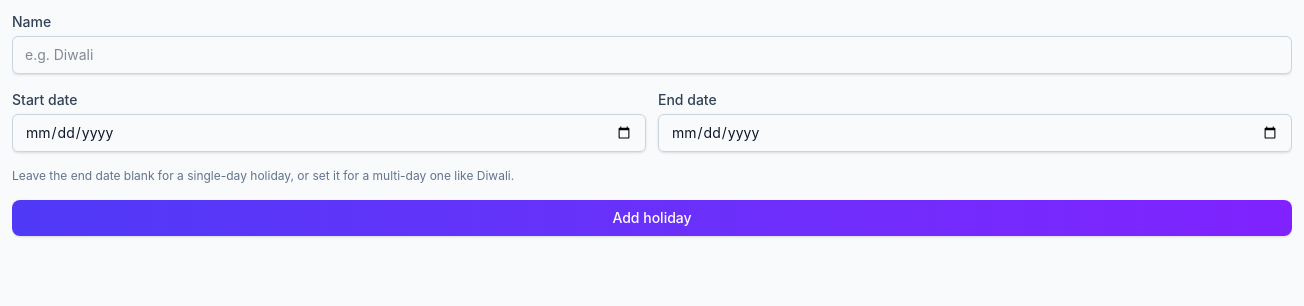
Test: HolidayForm › explains a backwards range if native validation is bypassed
This screenshot has width=1304, height=306.
Type "Backwards" into the field labelled "Name" at [652, 55], box [12,36,1292,74]
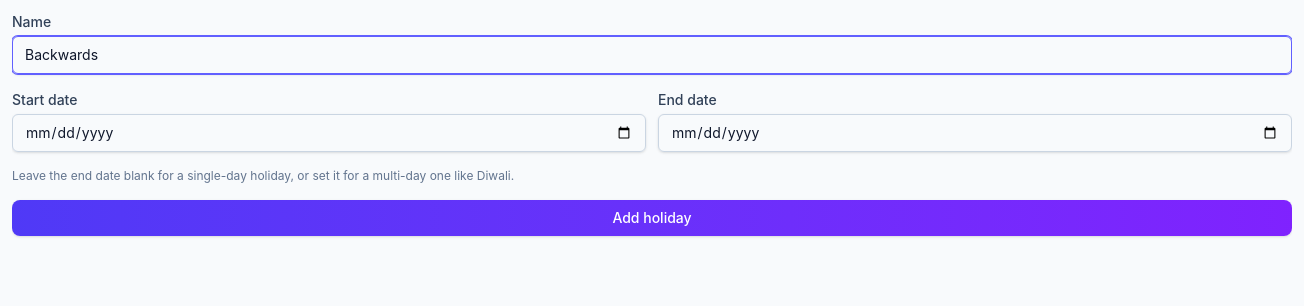
Type "2027-10-20" into the date field labelled "Start date" at [329, 133], box [12,114,646,152]
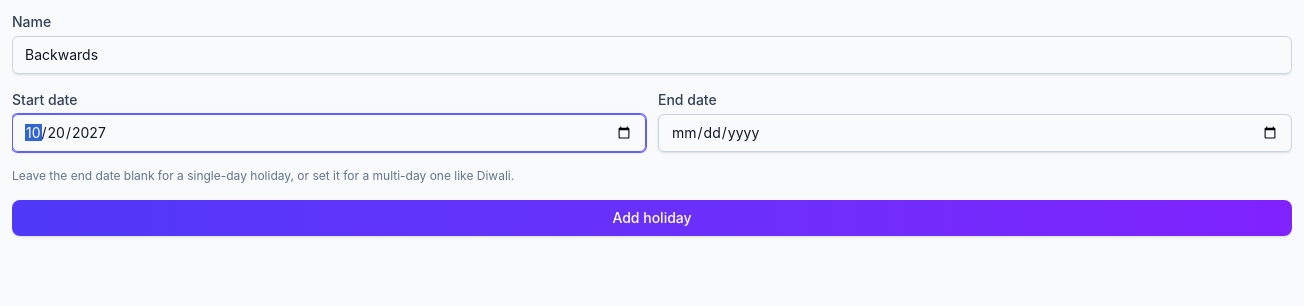
Type "2027-10-16" into the date field labelled "End date" at [975, 133], box [658,114,1292,152]
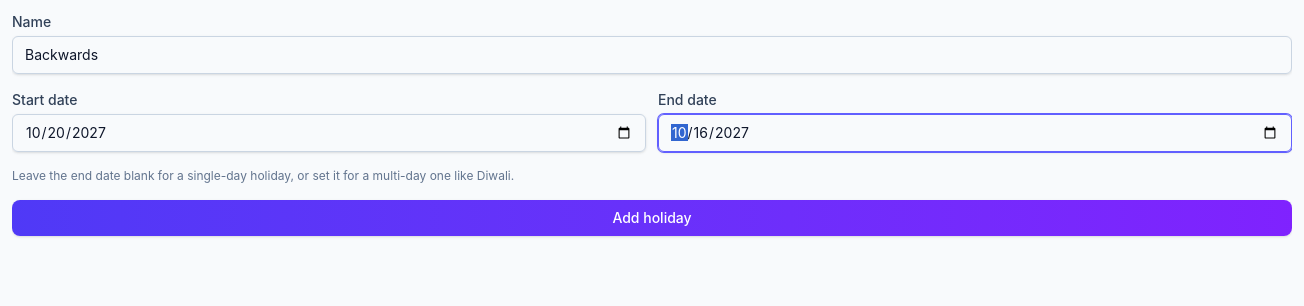
Submit the form named "add holiday"
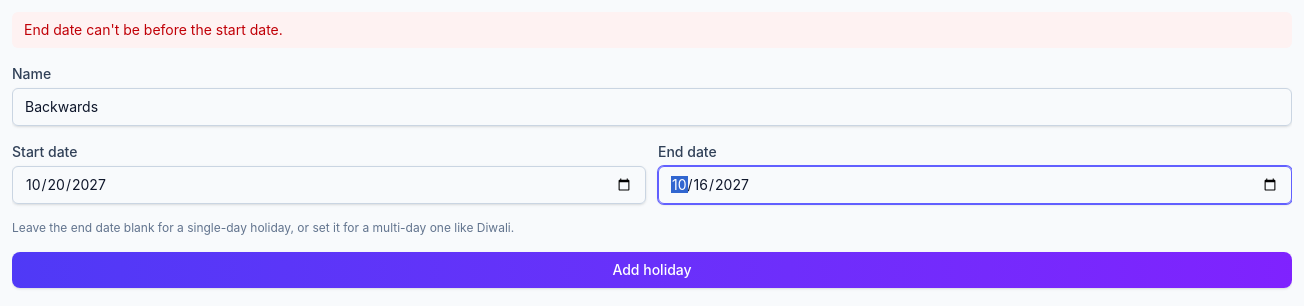
expect the message shows "End date can't be before the start date": met, box [24,21,283,38]
